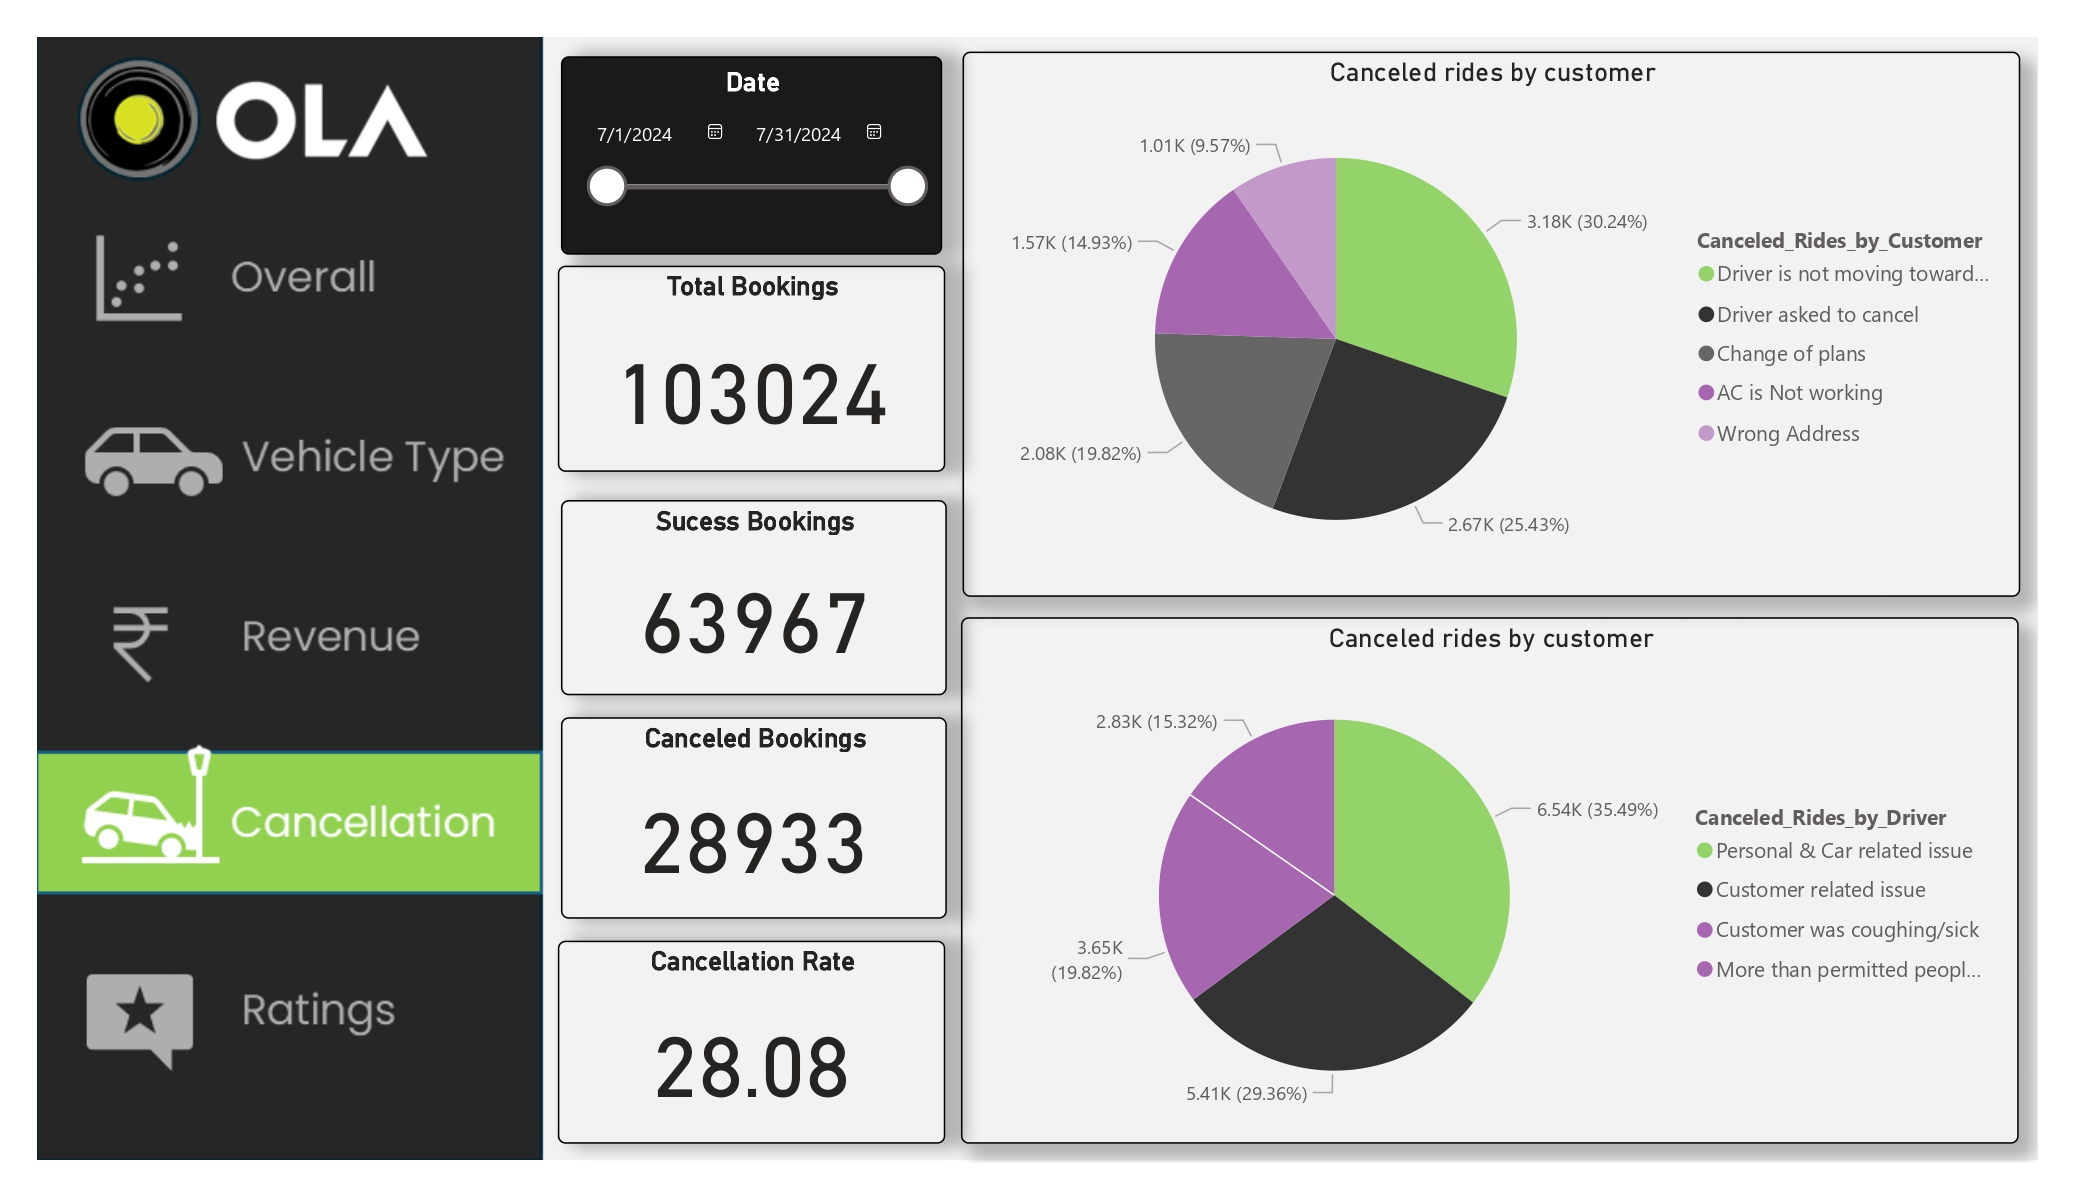

The dashboard page shown, as its layout file describes it:
{"tool":"powerbi","page":{"name":"CANCELLATION","canvas":[1280,720],"ordinal":3},"visuals":[{"type":"actionButton","box":[0,223.3,323.9,92],"z":0},{"type":"actionButton","box":[0,337.4,323.9,92],"z":1000},{"type":"actionButton","box":[0,449.1,323.9,100.6],"z":2000},{"type":"actionButton","box":[0,577.9,323.9,92],"z":3000},{"type":"actionButton","box":[0,109.2,323.9,92],"z":4000},{"type":"pieChart","title":"Canceled rides by customer","fields":{"Category":["July.Canceled_Rides_by_Customer"],"Y":["CountNonNull(July.Canceled_Rides_by_Customer)"]},"box":[592.3,9,676.9,348.7],"z":5000},{"type":"pieChart","title":"Canceled rides by customer","fields":{"Category":["July.Canceled_Rides_by_Driver"],"Y":["CountNonNull(July.Canceled_Rides_by_Driver)"]},"box":[591,370.5,676.9,337.2],"z":6000},{"type":"slicer","title":"Date ","fields":{"Values":["July.Date"]},"box":[334.8,12.3,244.3,126.2],"z":7000},{"type":"card","title":"Total Bookings","fields":{"Values":["Count(July.Booking_ID)"]},"box":[333.3,146.2,247.4,132.1],"z":8000},{"type":"card","title":"Sucess Bookings","fields":{"Values":["Count(July.Booking_ID)"]},"box":[334.6,296.2,247.4,124.4],"z":9000},{"type":"card","title":"Canceled Bookings","fields":{"Values":["Count(July.Booking_ID)"]},"box":[334.6,434.6,247.4,129.5],"z":10000},{"type":"card","title":"Cancellation Rate","fields":{"Values":["July.canceled_percentage"]},"box":[333.3,578.2,247.4,129.5],"z":11000}]}

Visuals, with their boxes in screenshot pixels (x1, y1, x2, y2):
actionButton: [16,379,534,526]
actionButton: [16,561,534,708]
actionButton: [16,740,534,900]
actionButton: [16,945,534,1093]
actionButton: [16,196,534,343]
"Canceled rides by customer" pieChart: [963,36,2045,593]
"Canceled rides by customer" pieChart: [961,614,2043,1153]
"Date " slicer: [551,41,942,243]
"Total Bookings" card: [549,255,945,467]
"Sucess Bookings" card: [551,495,947,694]
"Canceled Bookings" card: [551,716,947,923]
"Cancellation Rate" card: [549,946,945,1153]
